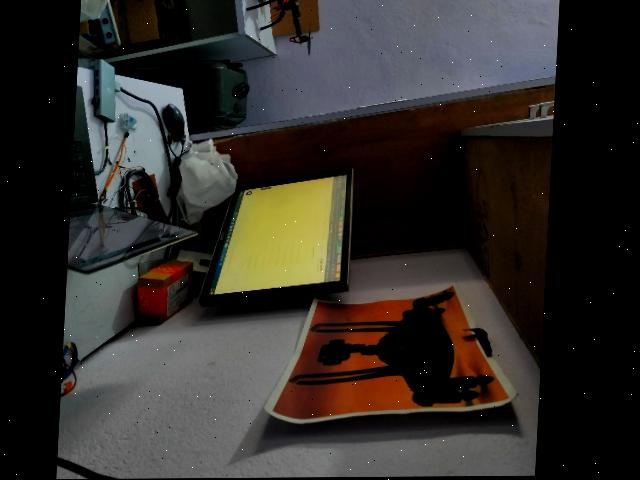drone: (292, 289, 486, 414)
